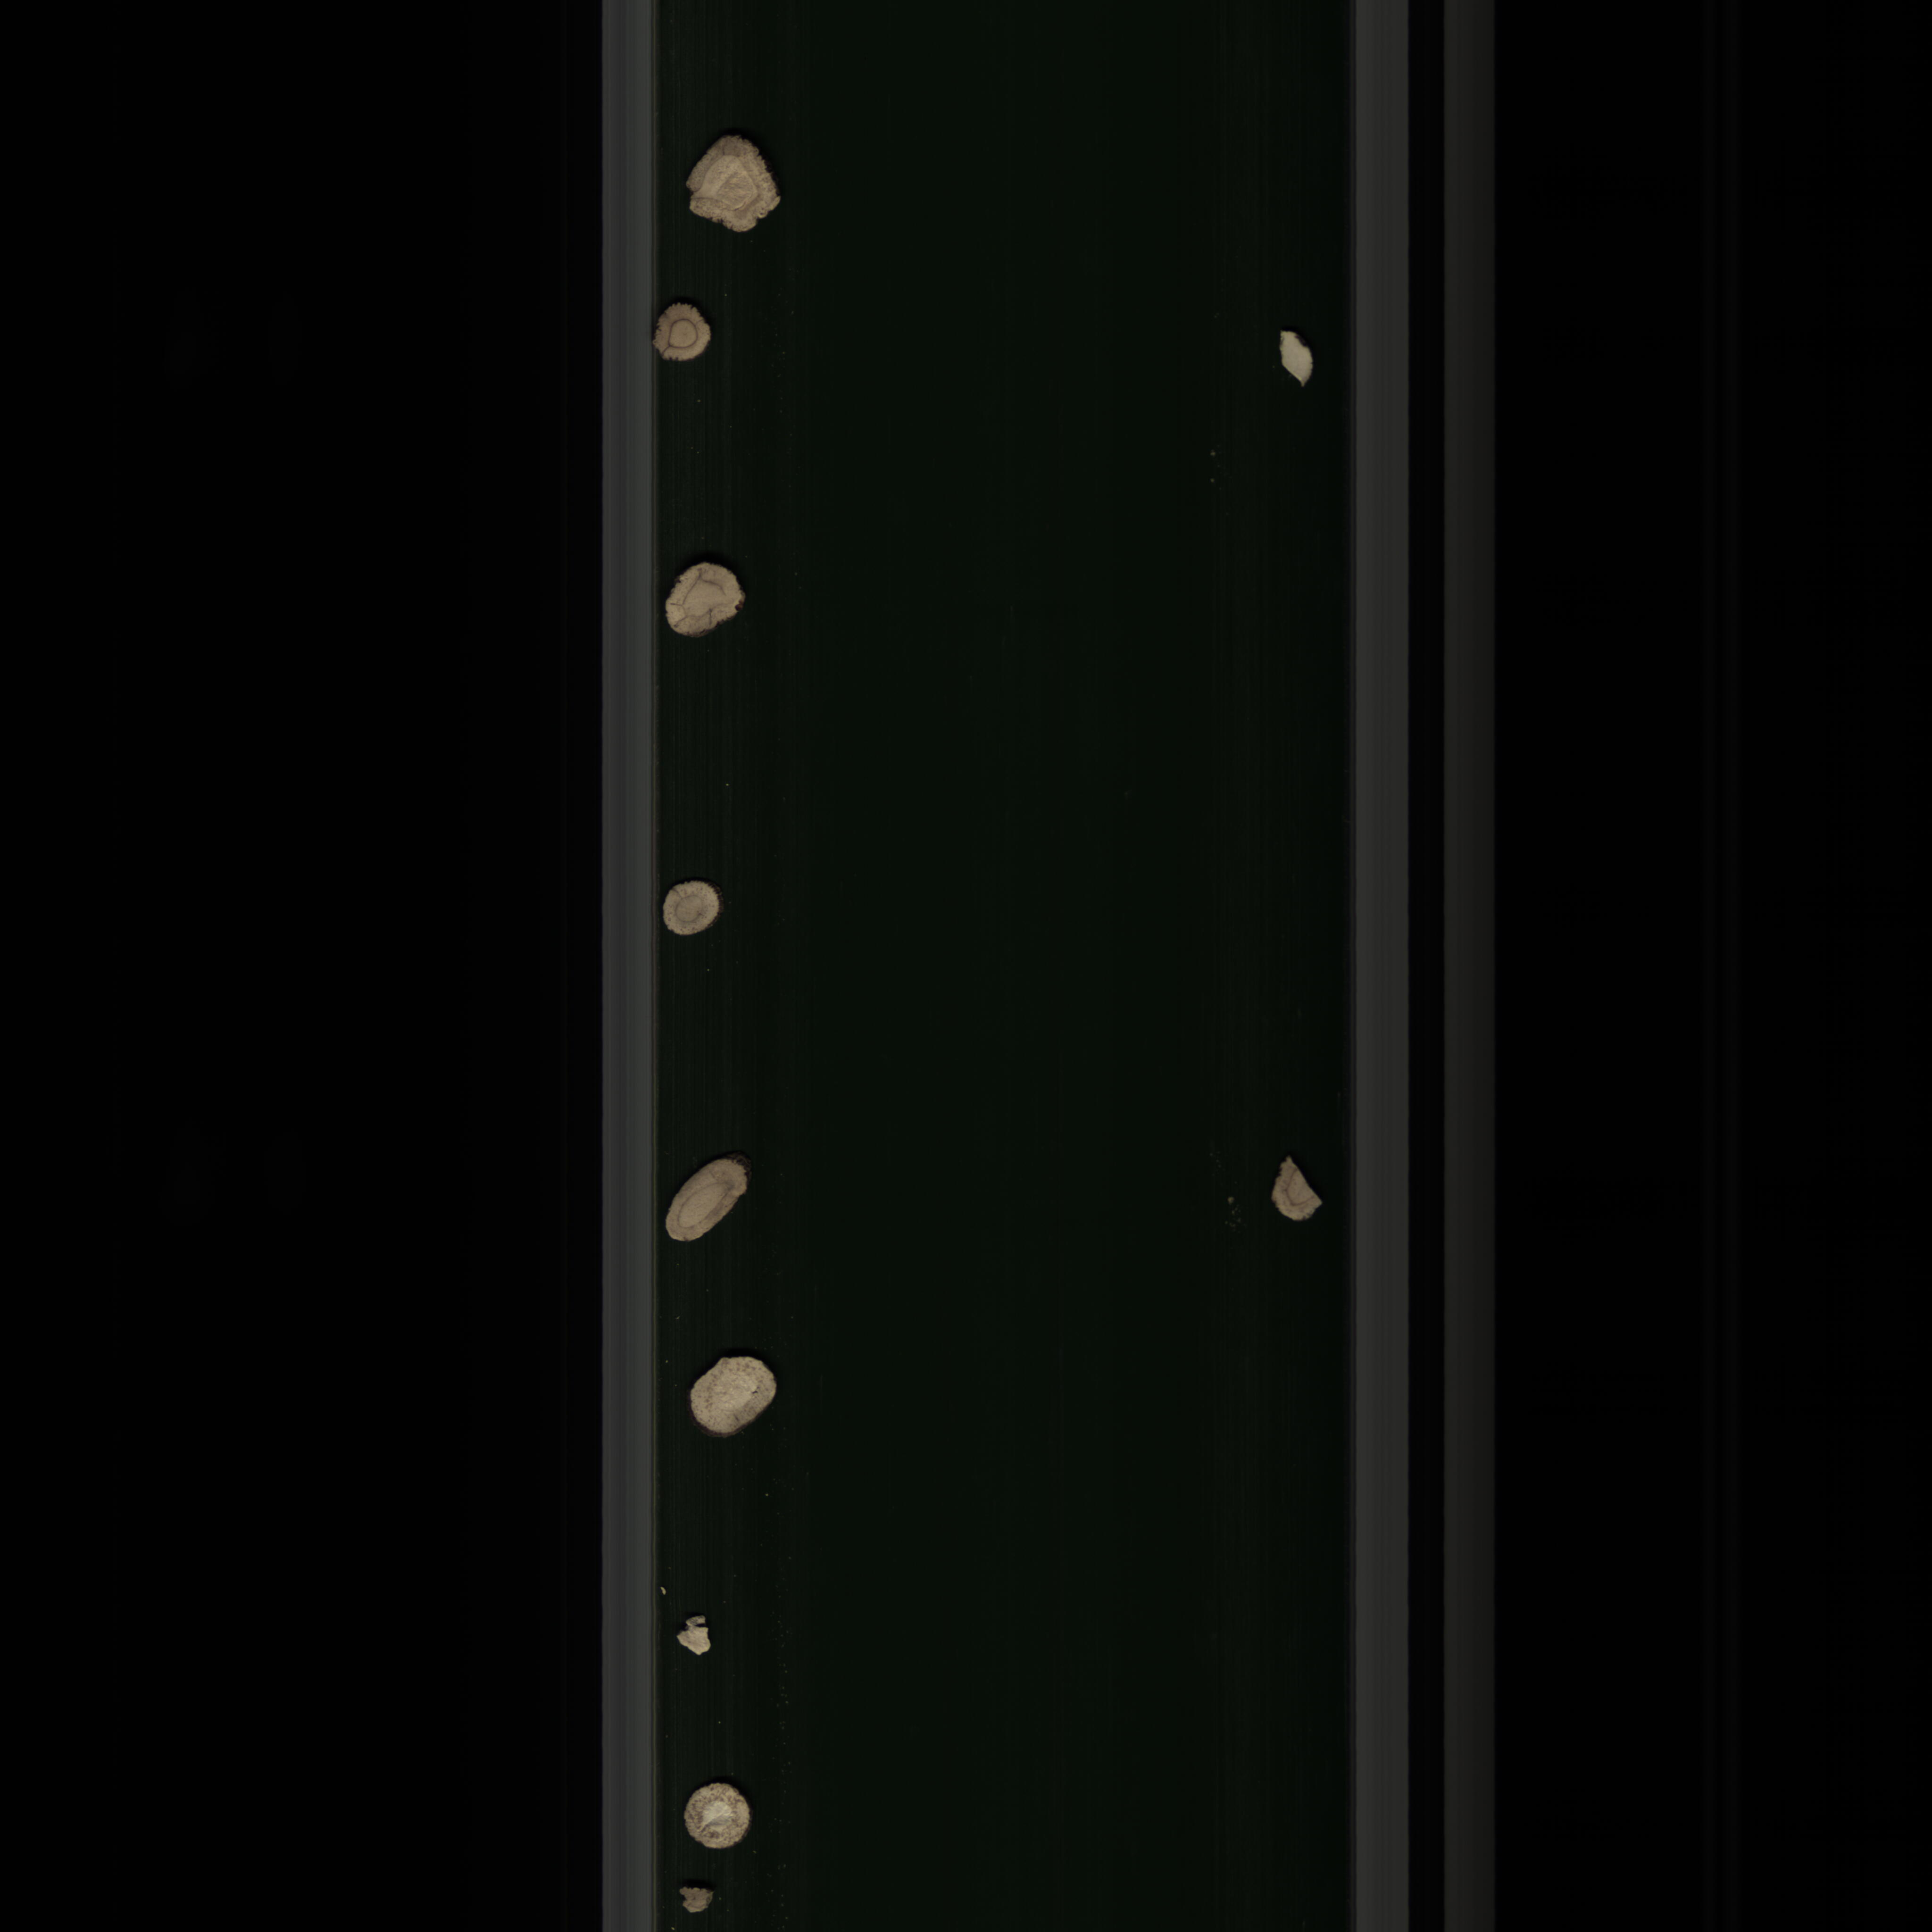bark: (669, 1612, 727, 1663), (671, 1877, 717, 1923)
debris: (1263, 1148, 1334, 1238), (1270, 315, 1327, 393)
distortion: (685, 131, 796, 241), (663, 1150, 757, 1258)
moldy: (648, 294, 725, 368)
